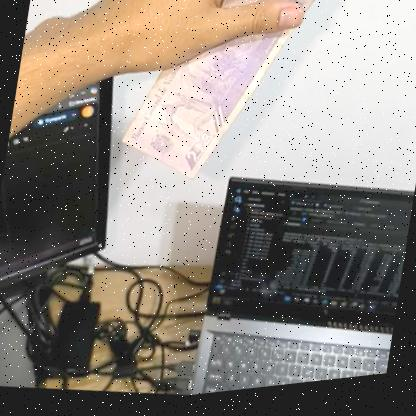ten-back-vef: (117, 0, 317, 204)
